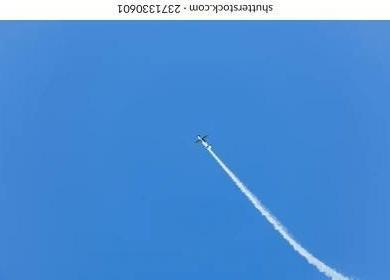Plane: (181, 127, 296, 262)
